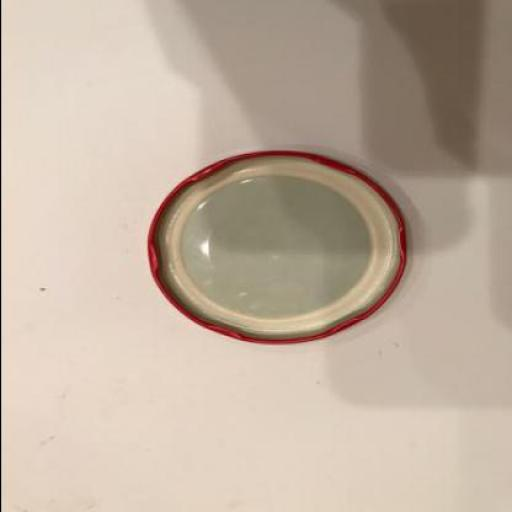metal: (145, 151, 405, 347)
